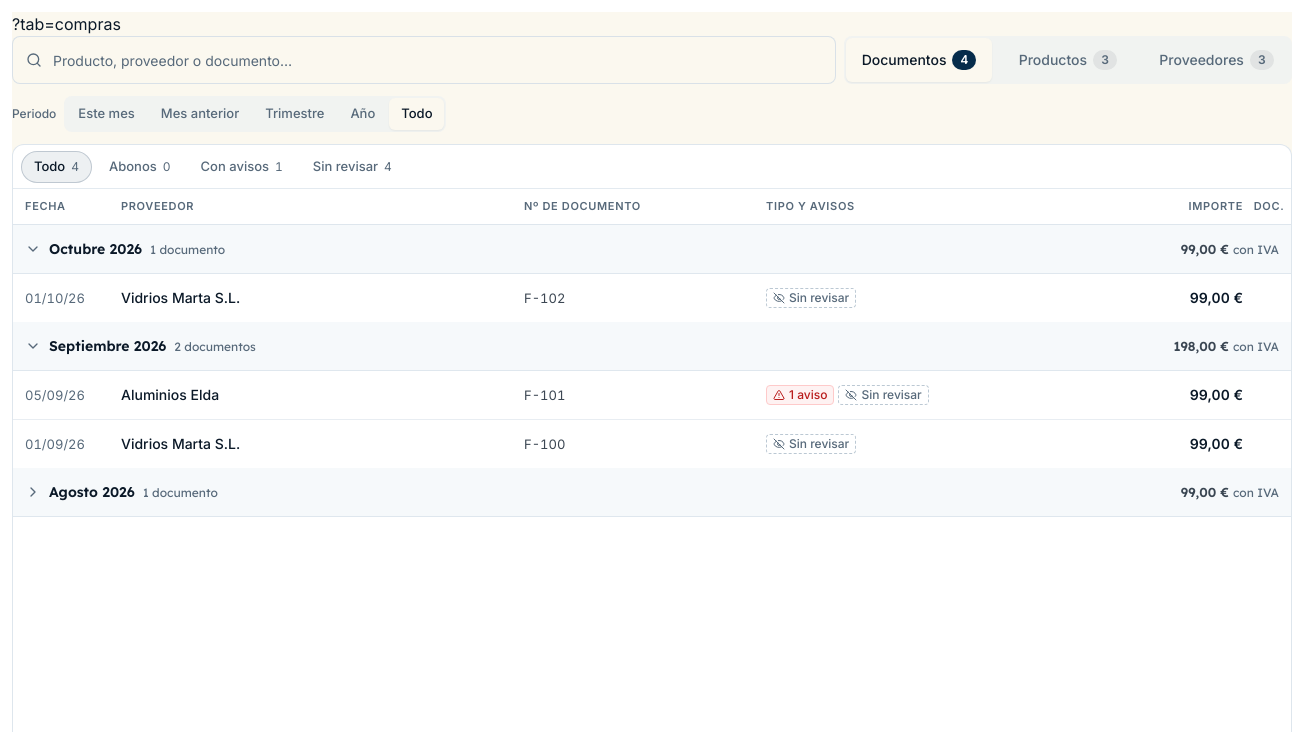
Scenario: Compras · buscador único y selector con contadores › el botón de borrar la búsqueda la vacía
The image size is (1304, 732).
Expected: the text "F-100" is shown, [524, 436, 565, 452]
Type "zzz" into the search field named "Buscar en compras" at (424, 60), box [12, 36, 836, 84]
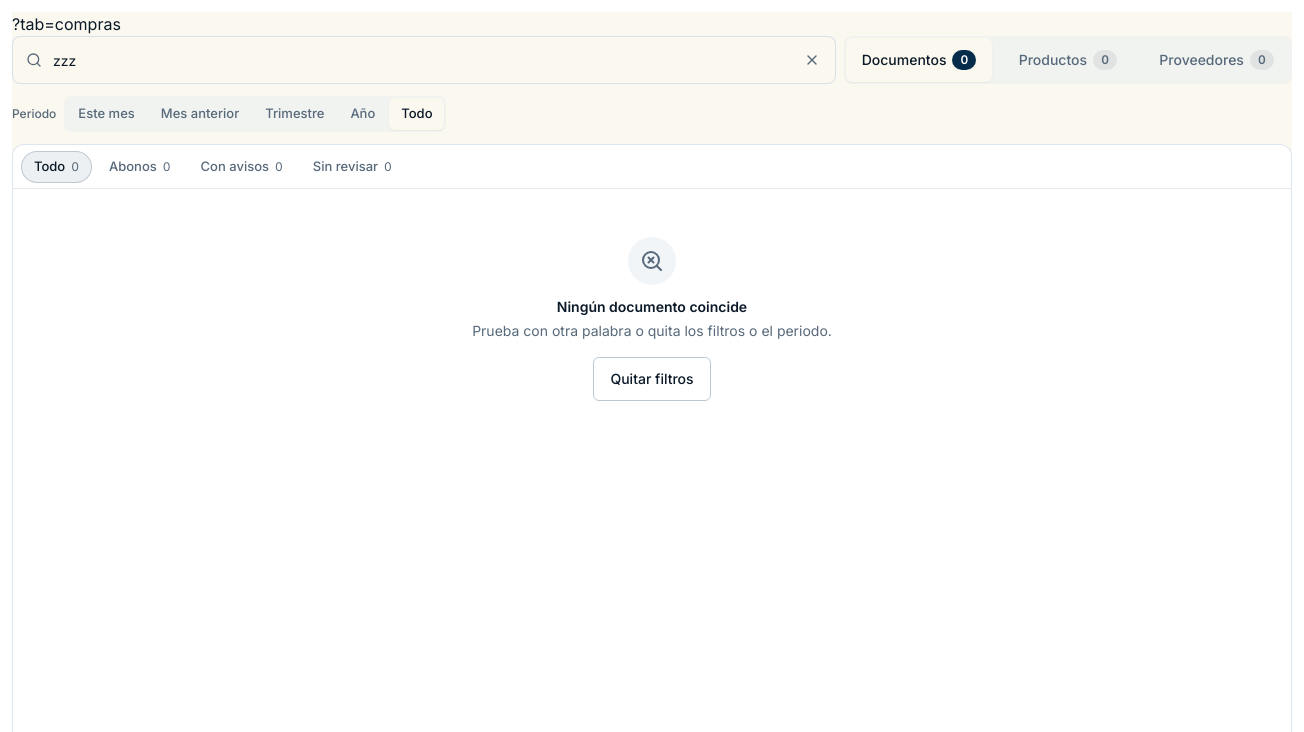
Expected: the text "Ningún documento coincide" is shown, [557, 297, 747, 317]
Click the button named "Borrar la búsqueda" at (812, 60), box [790, 38, 834, 82]
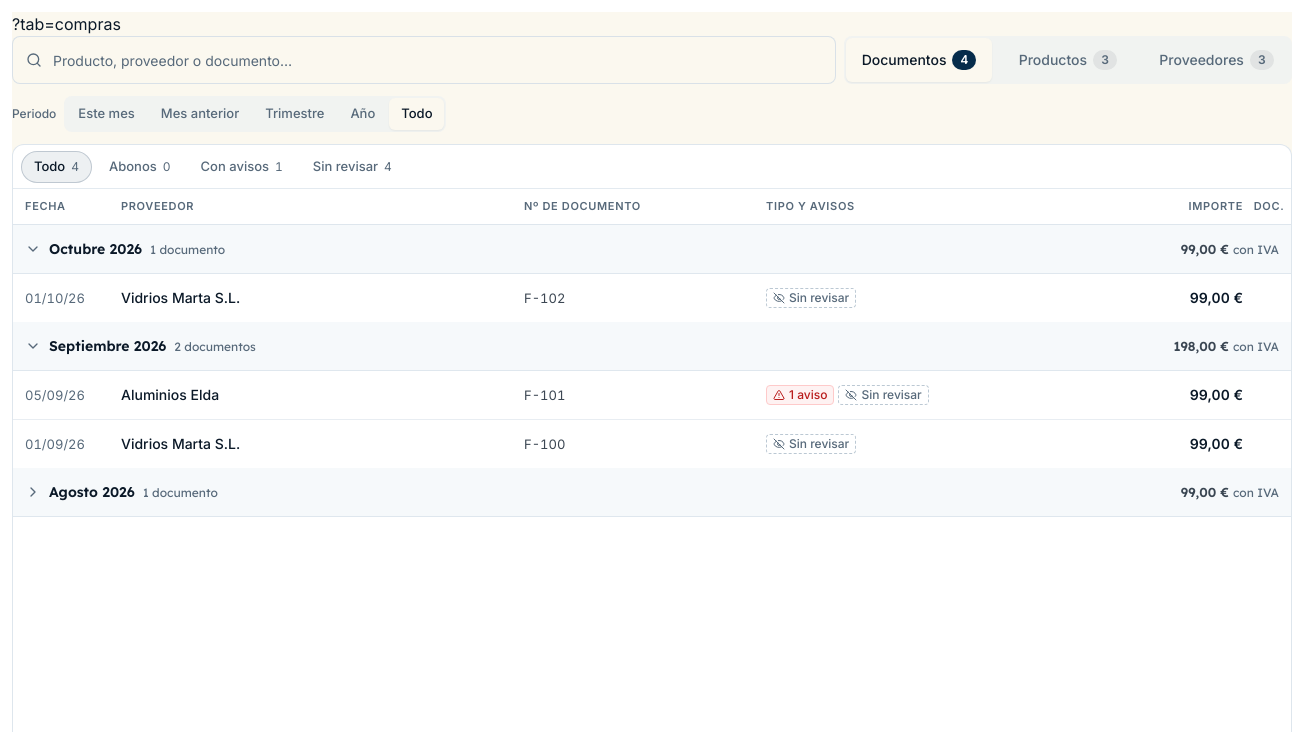
Expected: the text "F-100" is shown, [524, 436, 565, 452]
Expected: the search field named "Buscar en compras" is empty, [12, 36, 836, 84]
